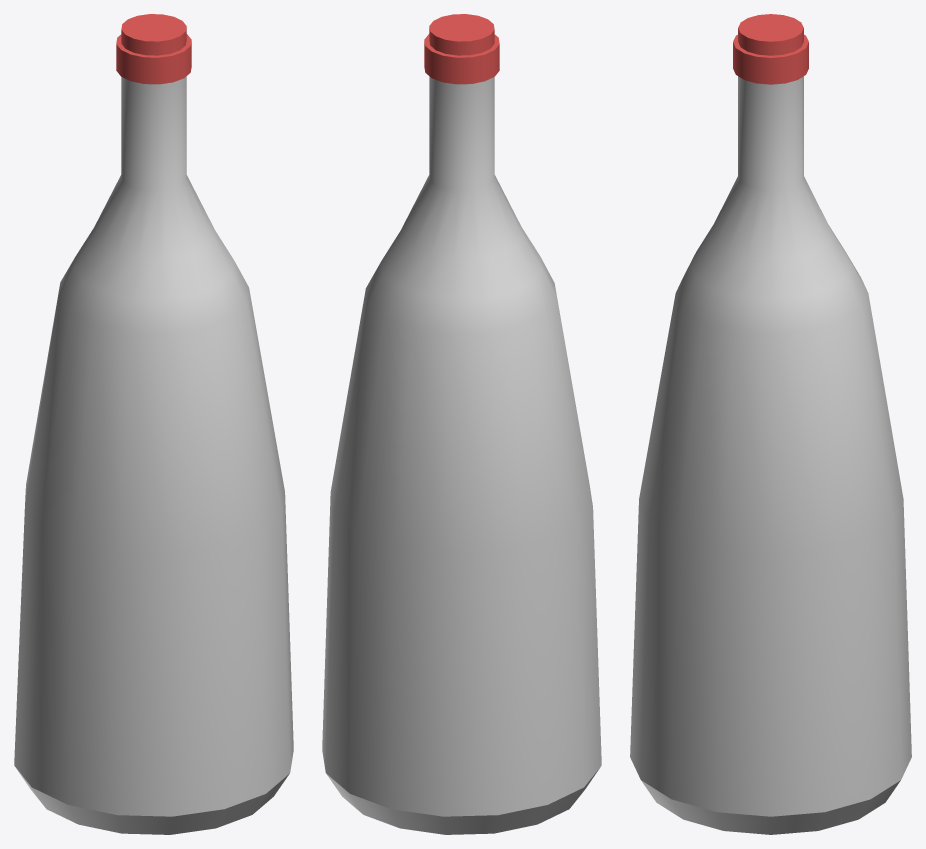
The model's file is BottleClear_Tavern.fbx.
The picture shows the model from 3 angles, left to right: view 1: azimuth 30°, elevation 25°; view 2: azimuth 150°, elevation 25°; view 3: azimuth 270°, elevation 25°; orthographic projection.
Visible parts, largest first — view 1: BottleClear_Tavern; view 2: BottleClear_Tavern; view 3: BottleClear_Tavern.
Boxes of the visible parts, x1=… form: BottleClear_Tavern: x1=14, y1=14, x2=293, y2=834; BottleClear_Tavern: x1=322, y1=14, x2=601, y2=834; BottleClear_Tavern: x1=630, y1=14, x2=911, y2=834.
Bounding box in the file's own units: 16.16 × 47.76 × 16.16.
